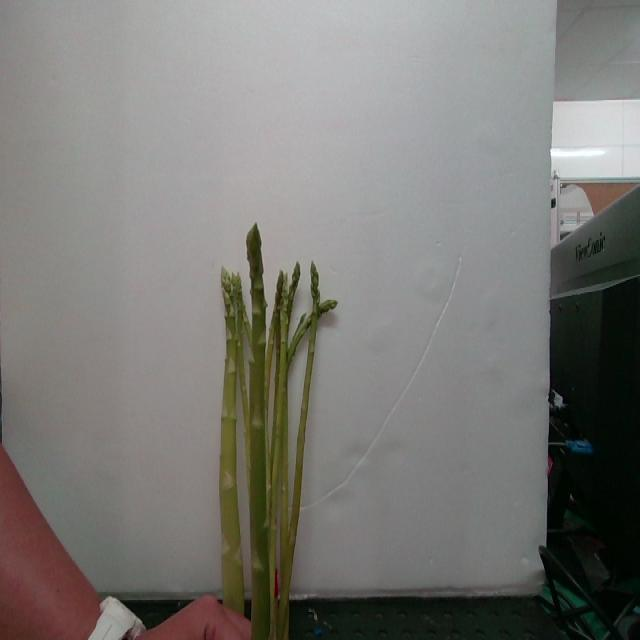aspargus: (277, 264, 321, 640), (248, 225, 276, 640)
